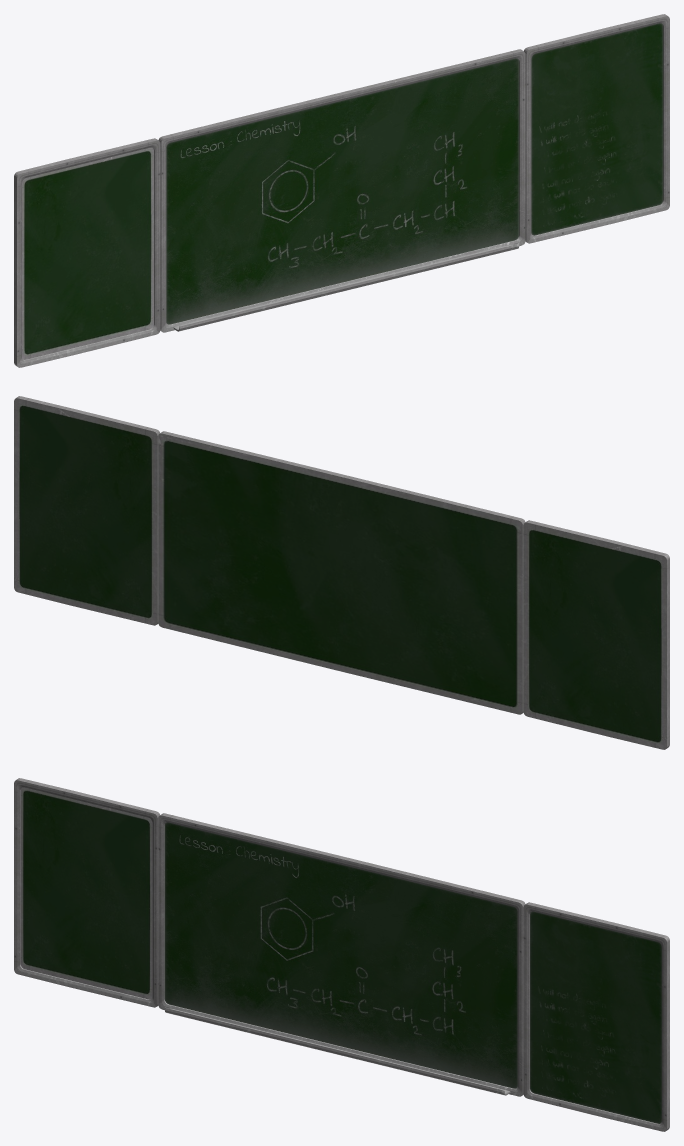
The model's file is c school.glb.
The picture shows the model from 3 angles, top to bottom: view 1: azimuth 30°, elevation 25°; view 2: azimuth 150°, elevation 25°; view 3: azimuth 330°, elevation 25°; orthographic projection.
Visible parts, largest first — view 1: entity_2; view 2: entity_2; view 3: entity_2.
Boxes of the visible parts, <box> form: entity_2: <box>14,14,669,367</box>; entity_2: <box>14,396,669,749</box>; entity_2: <box>14,778,669,1131</box>.
Size of the model in its own units: 0.1004 by 0.0286 by 0.0024.
1 material, 1 textured.
